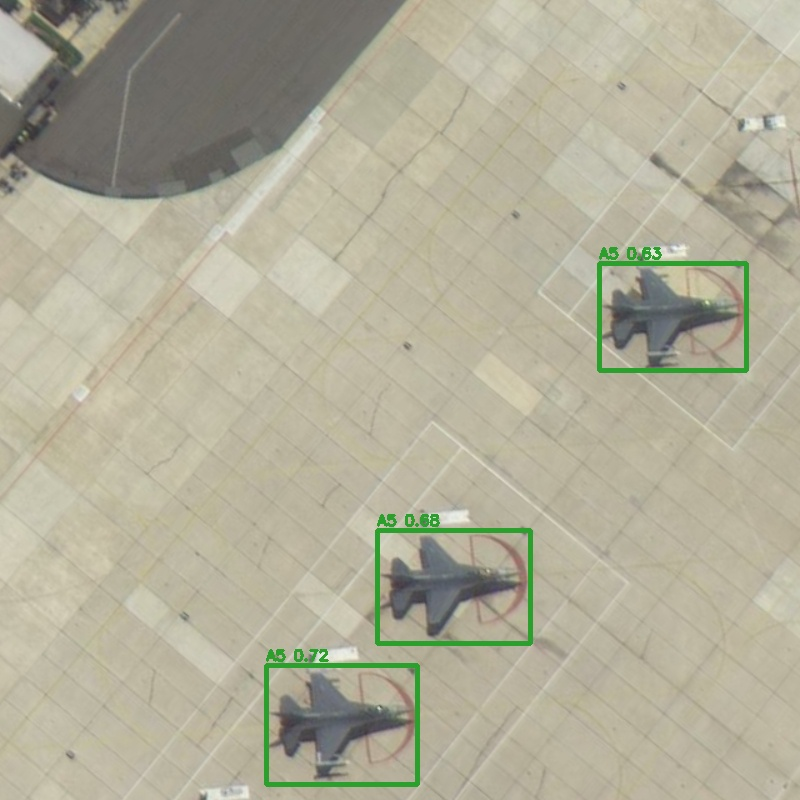A5: (266, 665, 417, 784), (377, 530, 530, 643), (599, 263, 746, 370)
